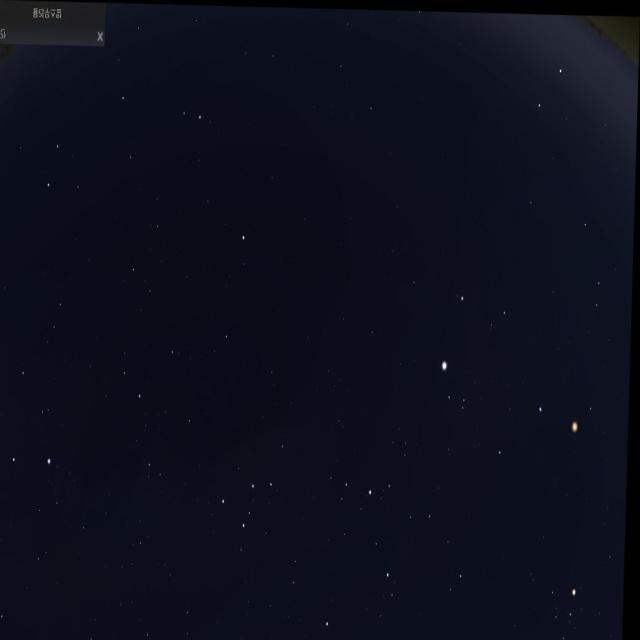cassiopeia: (206, 430, 296, 568)
pleiades: (488, 631, 505, 640)
